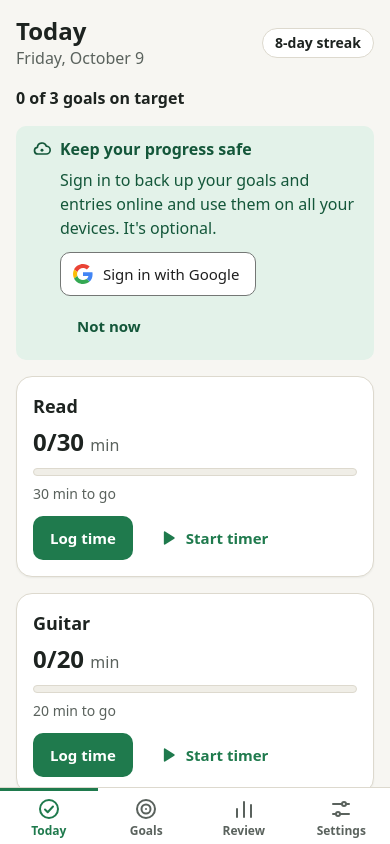
Today — LoginPromptBanner (FR-52, M8-AC2, DESIGN S1/F14/8.1) › "Sign in with Google" on the banner → signIn("#/today"); the banner stays, busy, while signing in
expect the element with test id "login-prompt-banner" is shown: met, box [16,126,374,360]
What coordinates should you click on to do the following:
click the button "Sign in with Google"
I would click on:
 (158, 274)
Its box is [60,252,256,296].
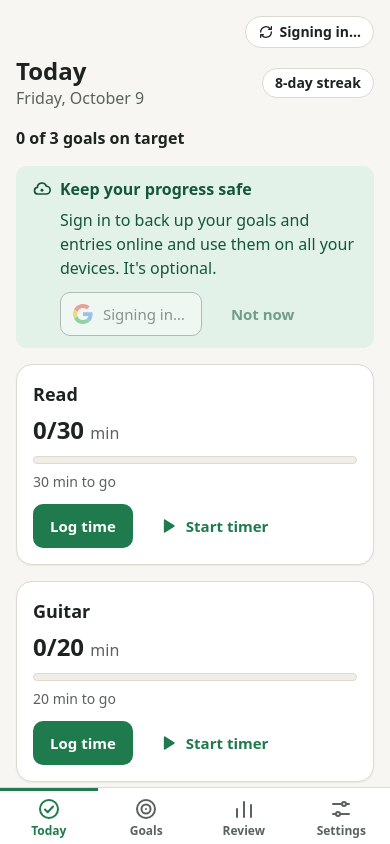
expect the button "Signing in…" is disabled: met, box [60,292,202,336]
expect the button "Not now" is disabled: met, box [214,292,312,336]
